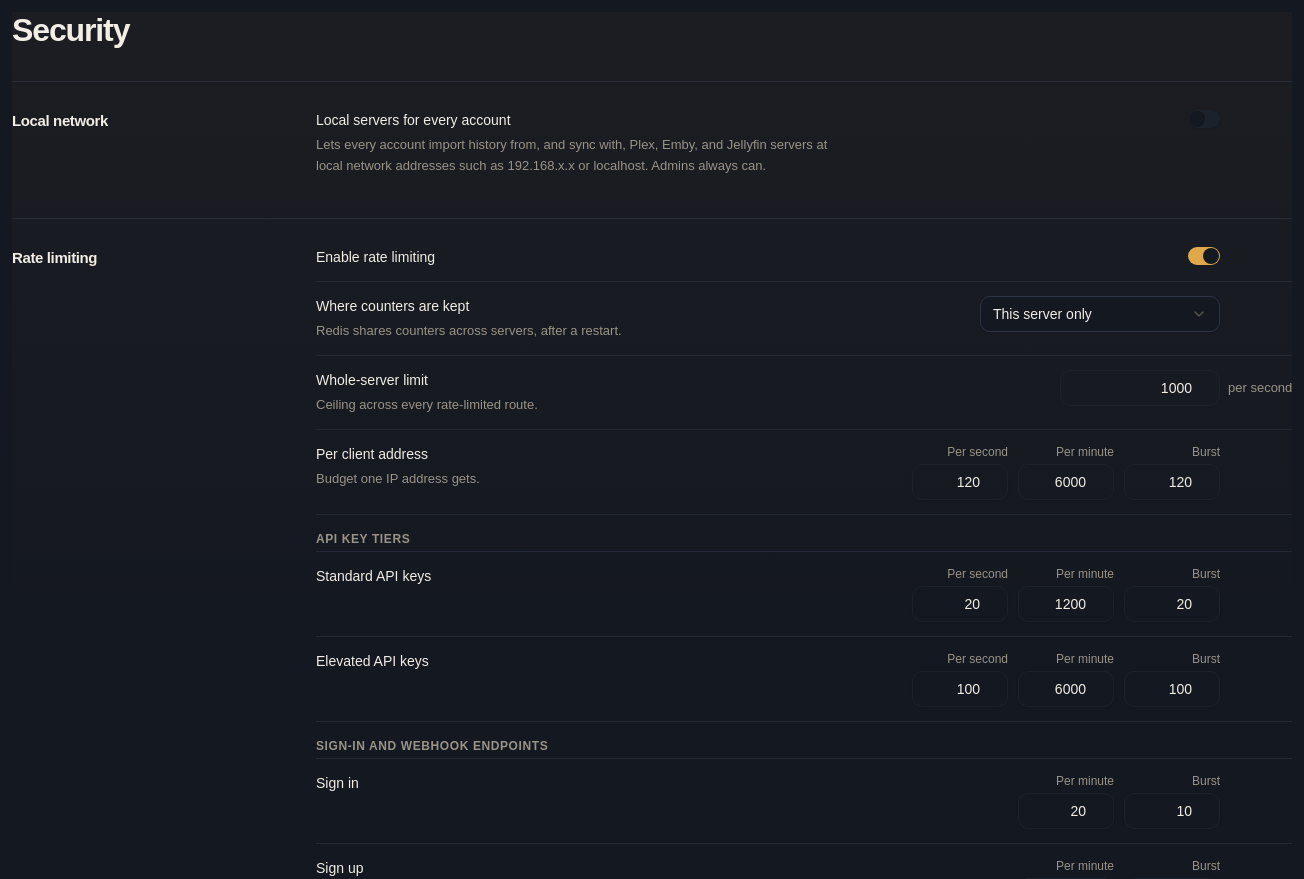
Test case: SecurityAccessSettings › stages an edited rate-limit row on the shared save bar
The width and height of the screenshot is (1304, 879).
Note: The control rejects empty/zero input, so append rather than clear first.
In the number field labelled "Whole-server limit": (1140, 388) [1060,370,1220,406], type "5"
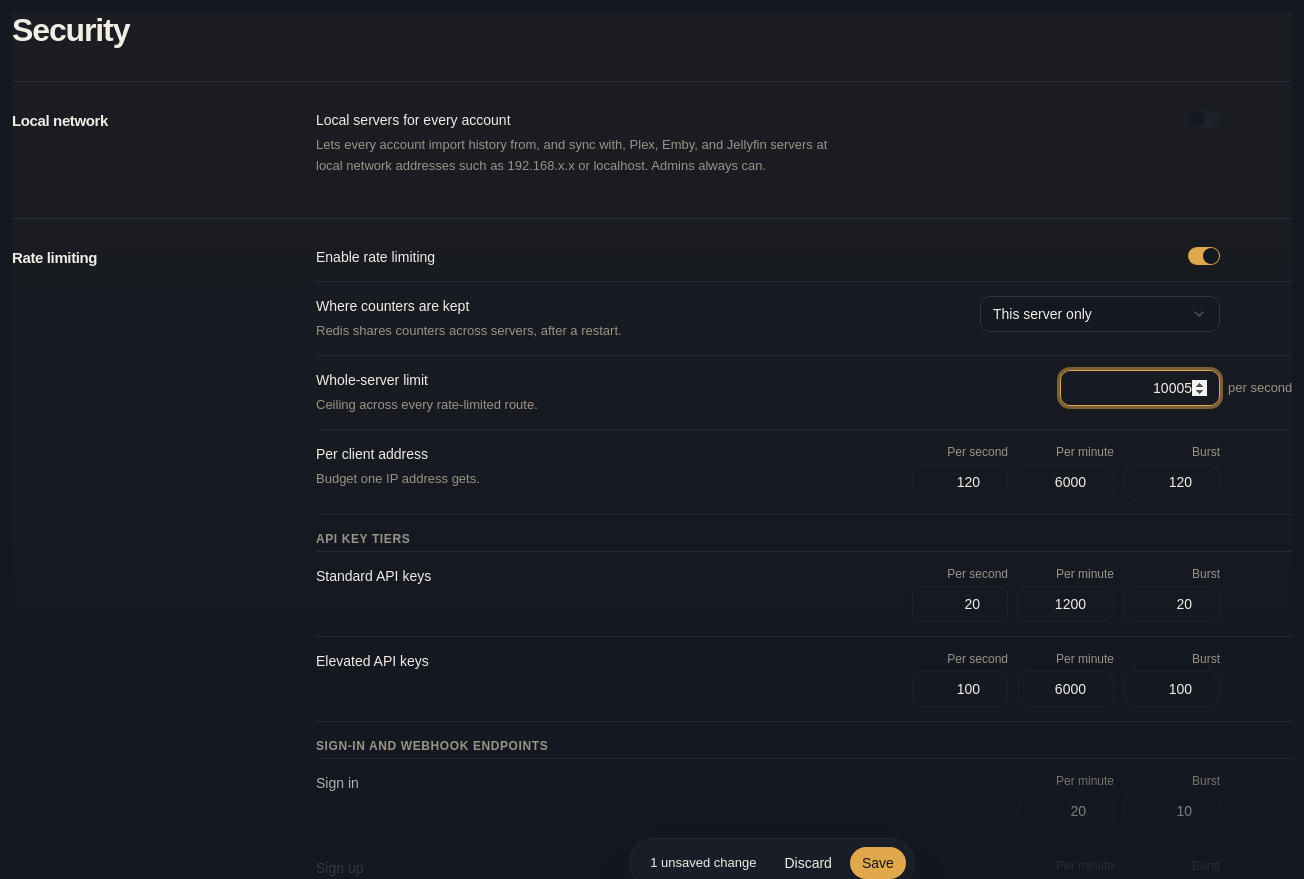
Expected: the number field labelled "Whole-server limit" holds "10005", [1060,370,1220,406]
Expected: the text "1 unsaved change" is shown, [650,853,756,873]
